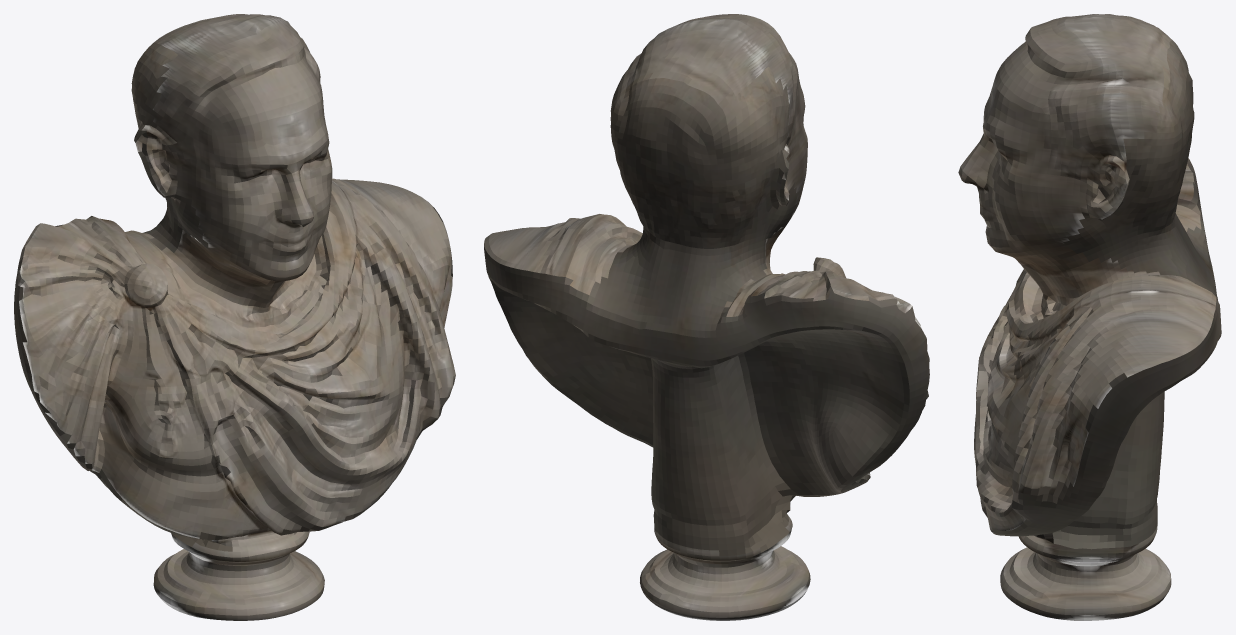
File: bibi-low.glb
3 views of the same model, side by side, from view 1: azimuth 30°, elevation 25°; view 2: azimuth 150°, elevation 25°; view 3: azimuth 270°, elevation 25° (orthographic).
Parts seen in each view (by area): view 1: Bibush; view 2: Bibush; view 3: Bibush.
Part boxes in pixels (x1,y1,x2,y2): Bibush: (14, 14, 455, 620); Bibush: (484, 14, 929, 620); Bibush: (958, 14, 1221, 620).
Size of the model in its own units: 4.04 by 5.08 by 2.15.
1 material, 1 textured.
